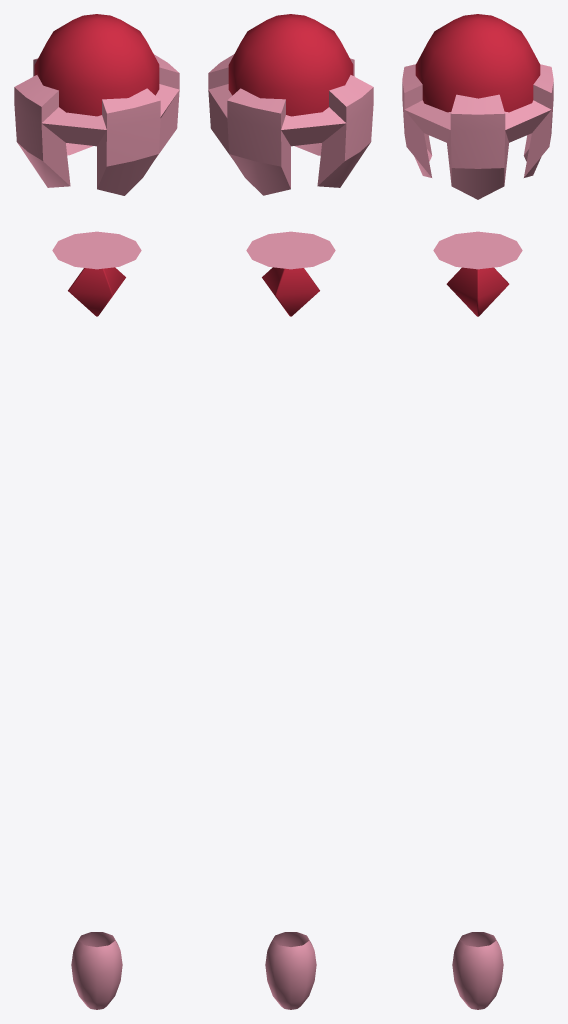
The model's file is Magic_staff.fbx.
3 renders of one model, left to right at view 1: azimuth 30°, elevation 25°; view 2: azimuth 150°, elevation 25°; view 3: azimuth 270°, elevation 25°, orthographic.
Parts seen in each view (by area): view 1: Magic_staff; view 2: Magic_staff; view 3: Magic_staff.
Part boxes in pixels (<box>): Magic_staff: <box>14,14,179,1009</box>; Magic_staff: <box>208,14,373,1009</box>; Magic_staff: <box>402,14,553,1009</box>.
Size of the model in its own units: 0.3839 by 2.56 by 0.355.
